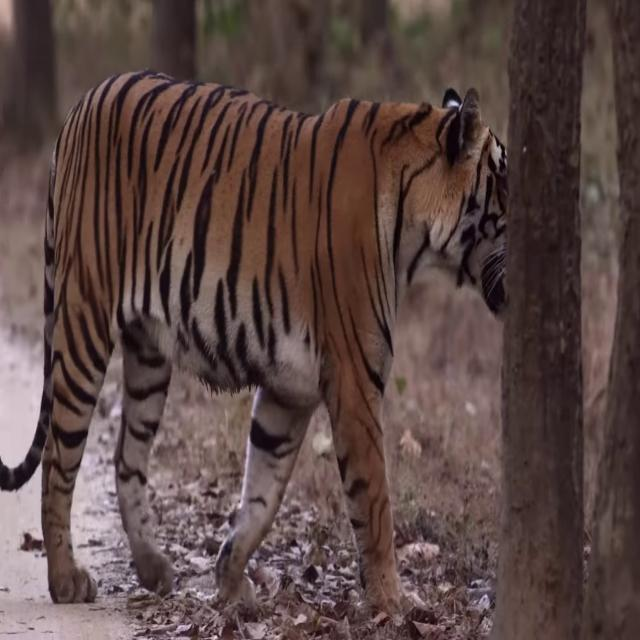tiger: (0, 70, 508, 618)
